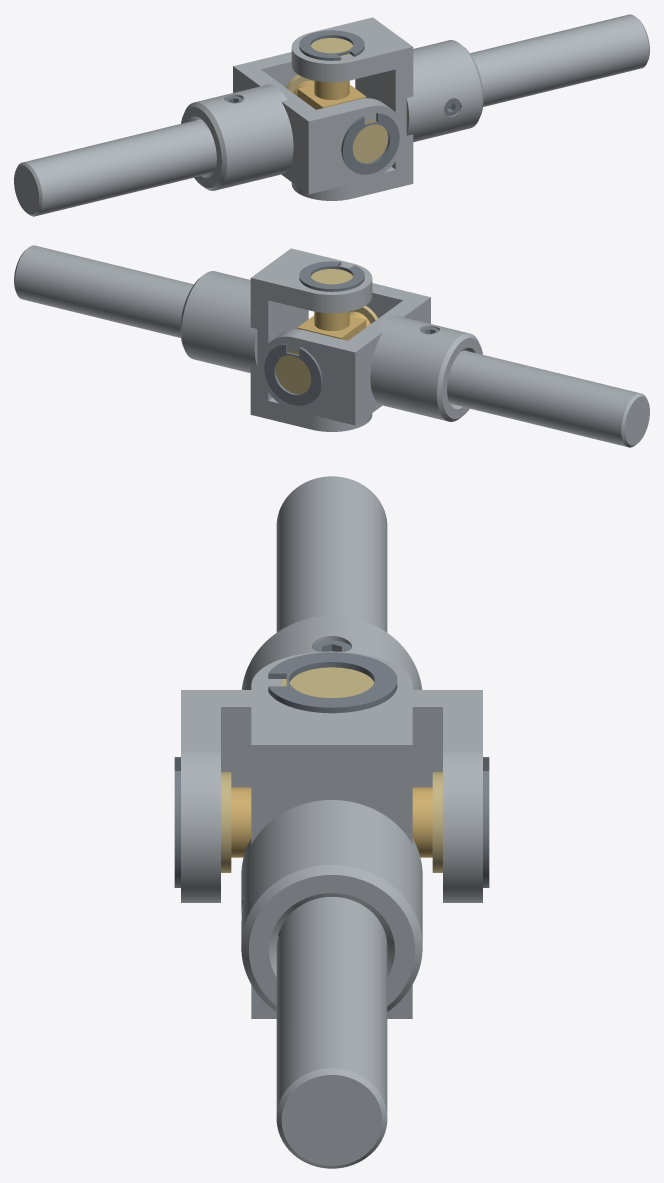
File: universal_joint.glb
3 renders of one model, top to bottom at view 1: azimuth 30°, elevation 25°; view 2: azimuth 150°, elevation 25°; view 3: azimuth 270°, elevation 25°, orthographic. The views are drawn at different scales.
Visible parts, largest first — view 1: input yoke, output yoke, input shaft, output shaft, circlip 2, cross (spider), circlip 3, cup 2, cup 3; view 2: input yoke, output yoke, input shaft, output shaft, circlip 1, cross (spider), circlip 3, cup 1, cup 3; view 3: output yoke, output shaft, input yoke, input shaft, circlip 3, cross (spider), cup 3, cup 1, cup 2.
Boxes of the visible parts, left/top/right/bottom form: input yoke: left=181, top=52, right=404, bottom=194; output yoke: left=291, top=17, right=483, bottom=200; input shaft: left=14, top=119, right=216, bottom=216; output shaft: left=470, top=14, right=649, bottom=106; circlip 2: left=341, top=112, right=399, bottom=174; cross (spider): left=293, top=80, right=366, bottom=109; circlip 3: left=299, top=30, right=364, bottom=60; cup 2: left=352, top=119, right=388, bottom=162; cup 3: left=311, top=38, right=352, bottom=56; input yoke: left=259, top=283, right=482, bottom=425; output yoke: left=180, top=248, right=372, bottom=431; input shaft: left=447, top=350, right=649, bottom=447; output shaft: left=14, top=245, right=193, bottom=337; circlip 1: left=264, top=343, right=322, bottom=405; cross (spider): left=297, top=311, right=370, bottom=340; circlip 3: left=299, top=261, right=364, bottom=291; cup 1: left=275, top=350, right=311, bottom=393; cup 3: left=311, top=269, right=352, bottom=284; output yoke: left=241, top=651, right=422, bottom=1018; output shaft: left=276, top=897, right=387, bottom=1168; input yoke: left=181, top=615, right=482, bottom=902; input shaft: left=276, top=476, right=387, bottom=632; circlip 3: left=268, top=652, right=397, bottom=713; cross (spider): left=231, top=787, right=432, bottom=857; cup 3: left=281, top=667, right=374, bottom=697; cup 1: left=432, top=772, right=442, bottom=872; cup 2: left=221, top=772, right=231, bottom=872.
Size of the model in its own units: 280 by 62.4 by 62.4.
